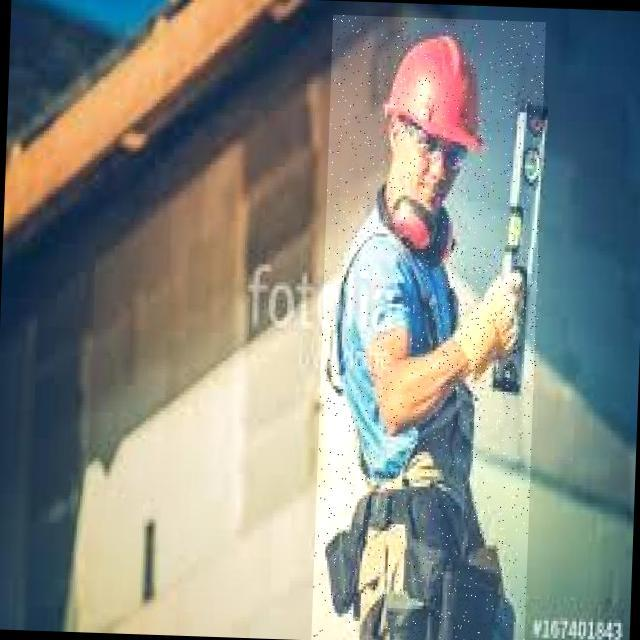Gloves: (453, 269, 526, 383)
Helmet: (376, 25, 490, 158)
Person: (312, 10, 572, 640)
no-vest: (333, 181, 483, 493)
